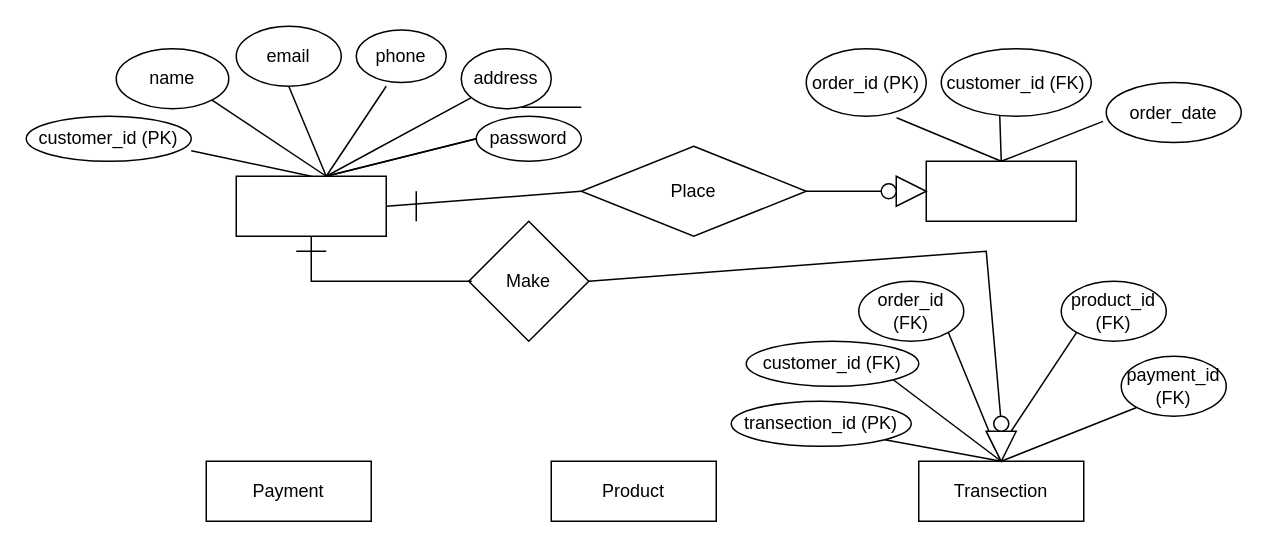
Image size: 1268x548. Some labels were removed from this diagram. The shapes that lost their labels are listed below. From the top down, each one's centre as x and y in pixels, then its label:
pixel 310 205: User
pixel 1000 190: Order
